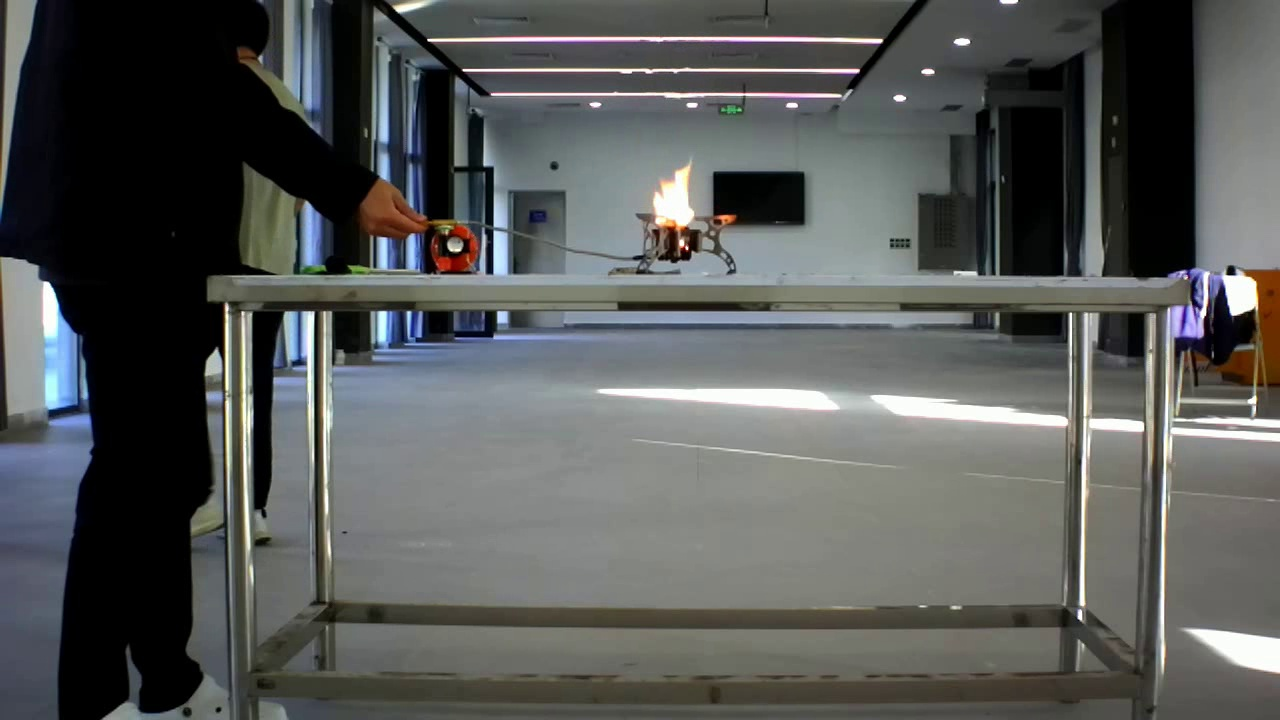Fire: (639, 150, 739, 262)
